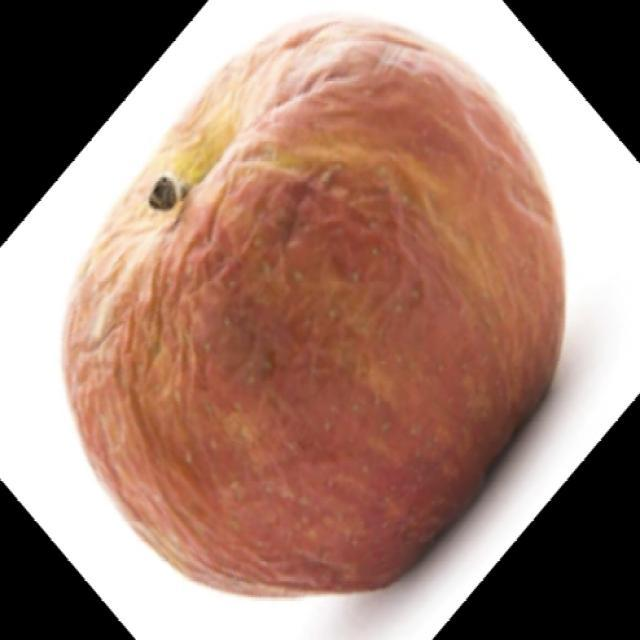Rotten: (45, 25, 547, 583)
